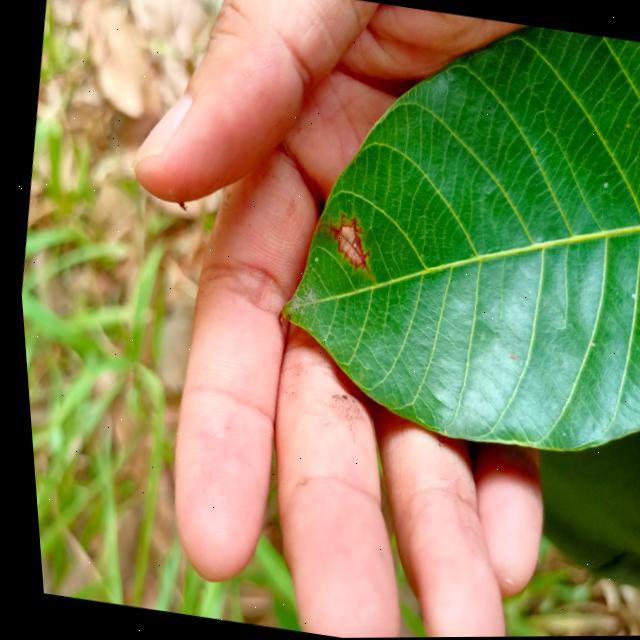Corynespora: (316, 210, 377, 278)
